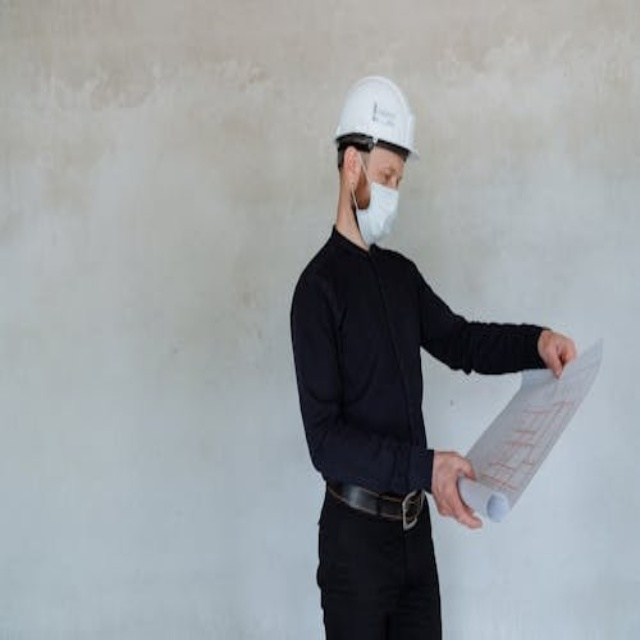Mascara: (352, 154, 400, 247)
Sin_gafas: (371, 156, 407, 192)
Sin_guantes: (429, 440, 488, 534), (532, 315, 582, 377)
